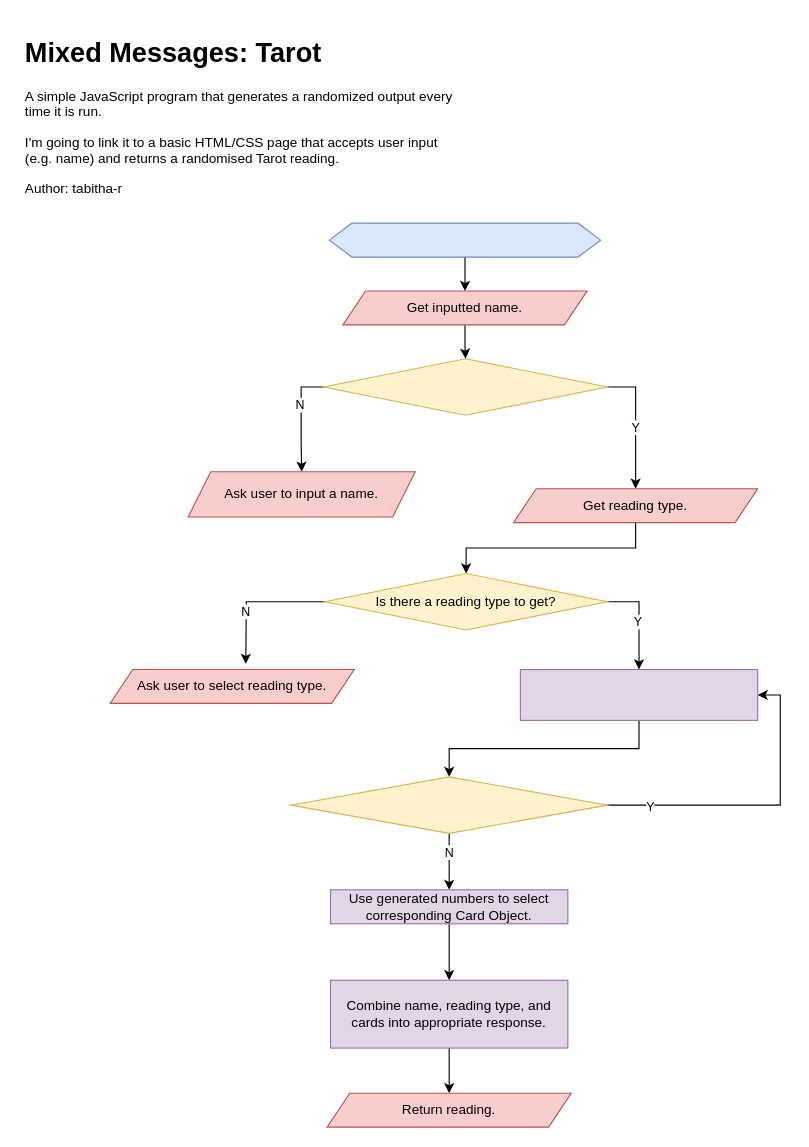
The diagram is 809 pixels wide and 1147 high, and some of its shapes have lost their labels. Here are the shapes that lost their labels. From the top down, the centre of each, then its label:
At (x=464, y=239): "Tarot Reading button is clicked.".
At (x=465, y=386): "Is there a name to get?".
At (x=638, y=694): "Generate 3 random numbers between 1-78.".
At (x=448, y=804): "Are any of the numbers the same?".
